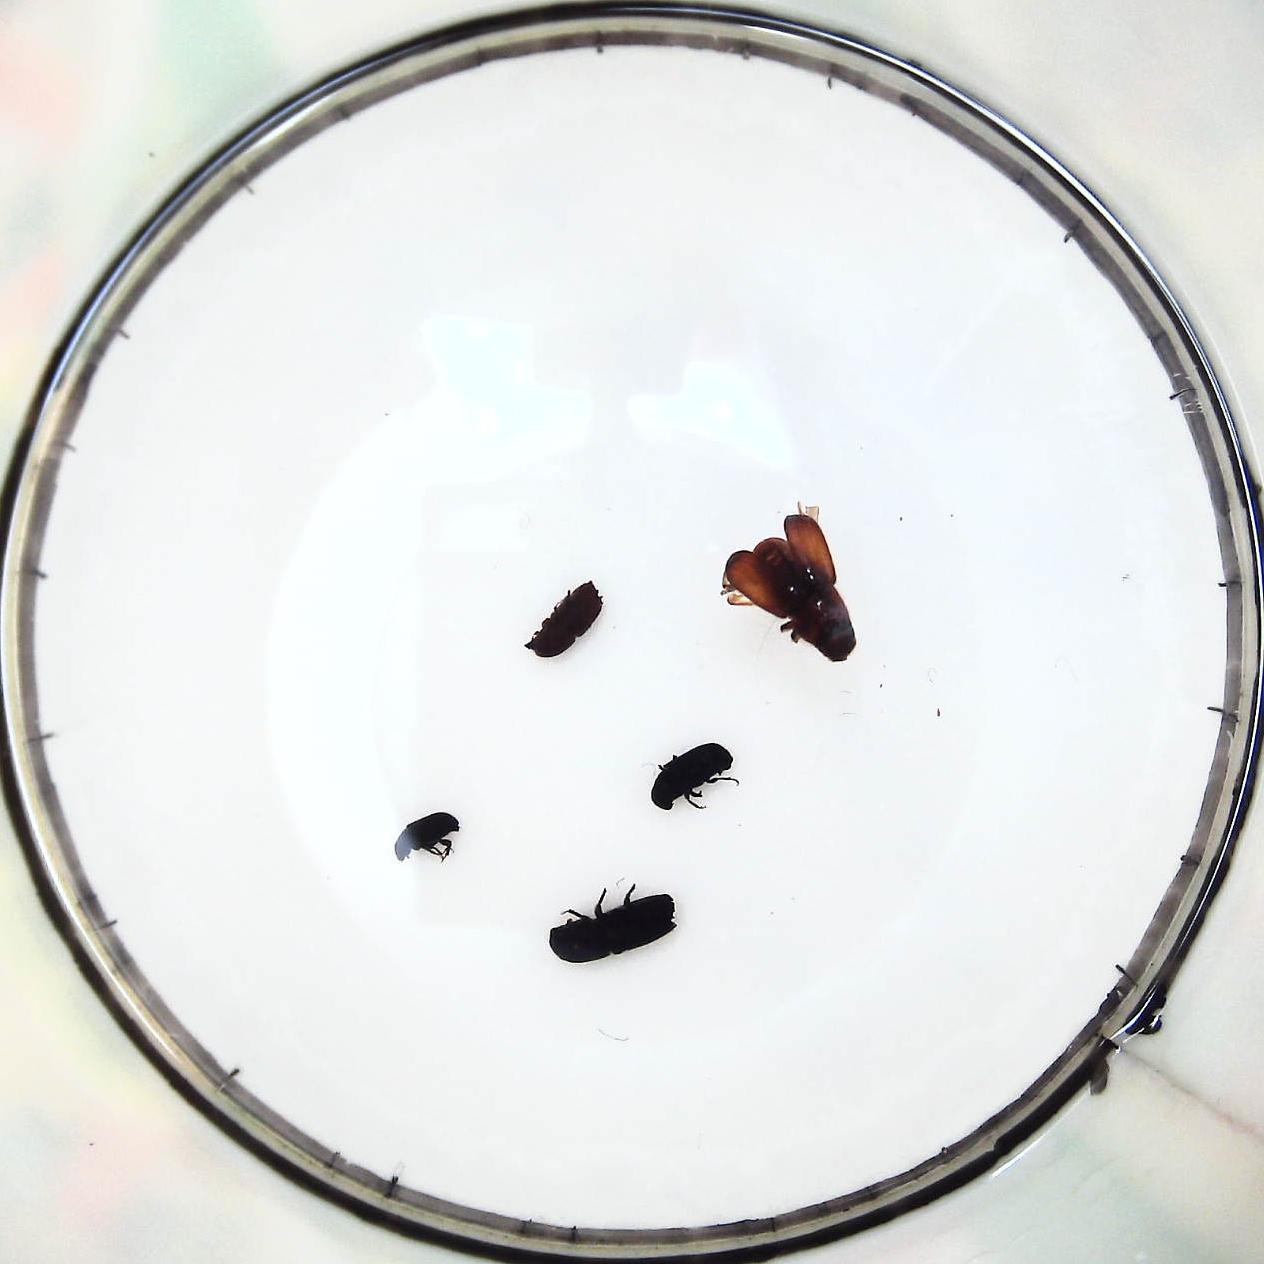Boerner: (546, 891, 675, 963)
Leconte: (721, 512, 861, 666)
Linnaeus: (527, 579, 603, 654)
armandi: (651, 740, 733, 815)
coleoptera: (391, 809, 461, 861)
